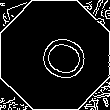O_W: (23, 25, 87, 85)
